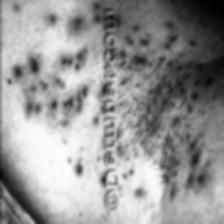Toxin: (5, 51, 88, 135)
